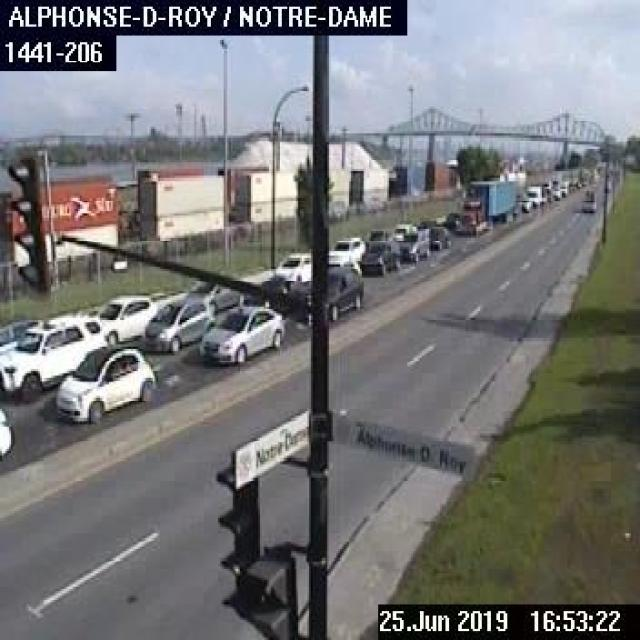vehicle: (0, 304, 116, 406), (49, 342, 157, 426), (194, 301, 284, 368), (139, 288, 216, 356), (451, 173, 522, 236), (85, 288, 160, 339), (303, 263, 362, 321), (358, 241, 402, 278), (269, 251, 307, 286), (328, 234, 365, 263), (397, 232, 427, 262), (427, 224, 453, 250), (524, 180, 543, 209), (388, 220, 416, 238), (578, 191, 595, 211)
